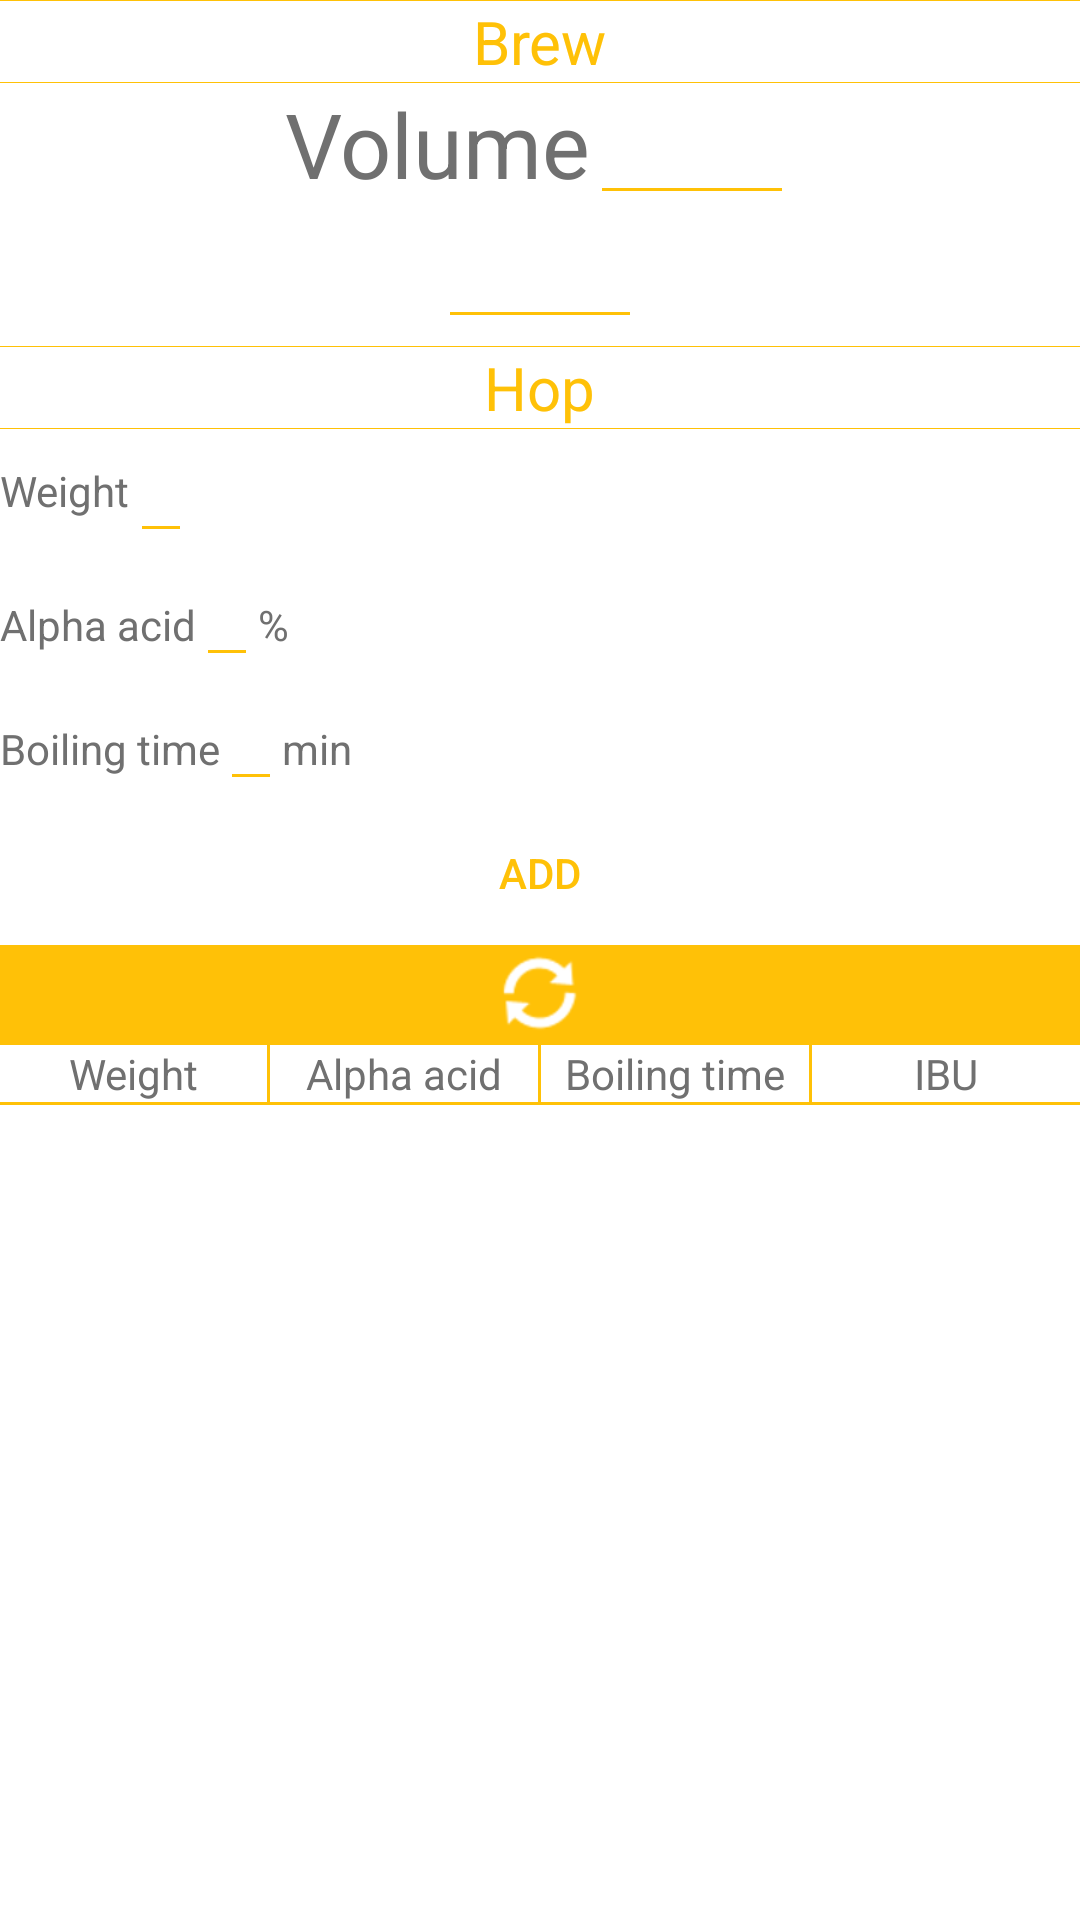

Screen size 1080x1920. Icon name, then its center in pixels as (x,y):
popup sync: (540,993)
